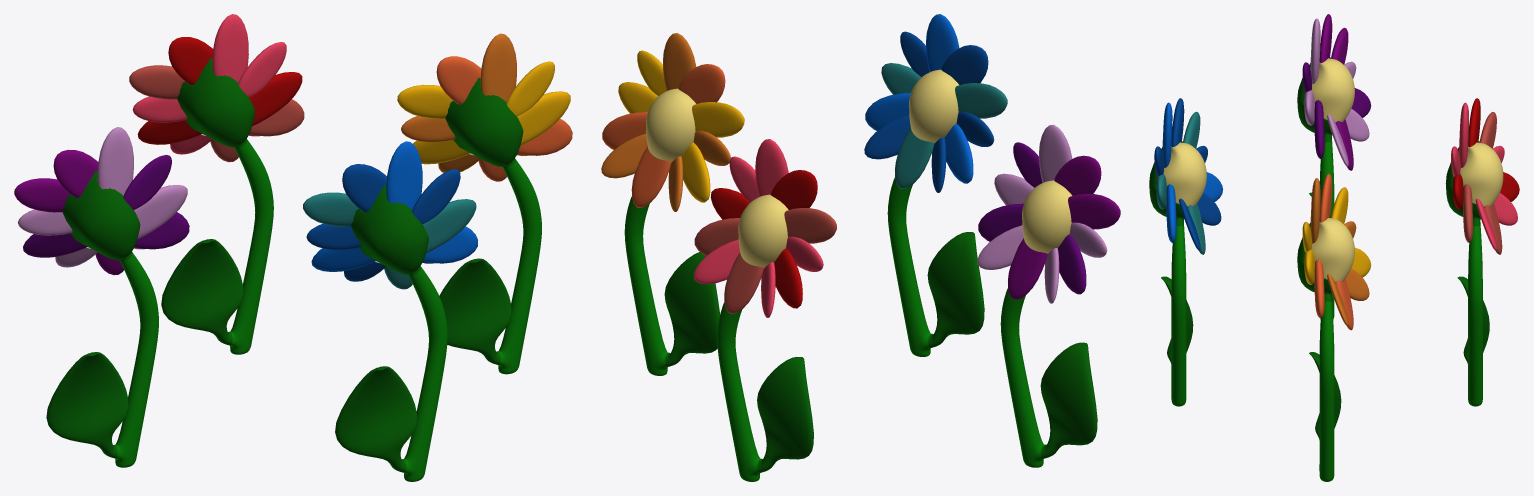
3 views of the same model, side by side, from view 1: azimuth 30°, elevation 25°; view 2: azimuth 150°, elevation 25°; view 3: azimuth 270°, elevation 25° (orthographic). The views are drawn at different scales.
Parts seen in each view (by area): view 1: pCylinder16; view 2: pCylinder16; view 3: pCylinder16.
Boxes of the visible parts, left/top/right/bottom form: pCylinder16: left=14, top=14, right=572, bottom=481; pCylinder16: left=601, top=14, right=1120, bottom=481; pCylinder16: left=1149, top=14, right=1519, bottom=481.
Size of the model in its own units: 7.43 by 4.52 by 5.14.
